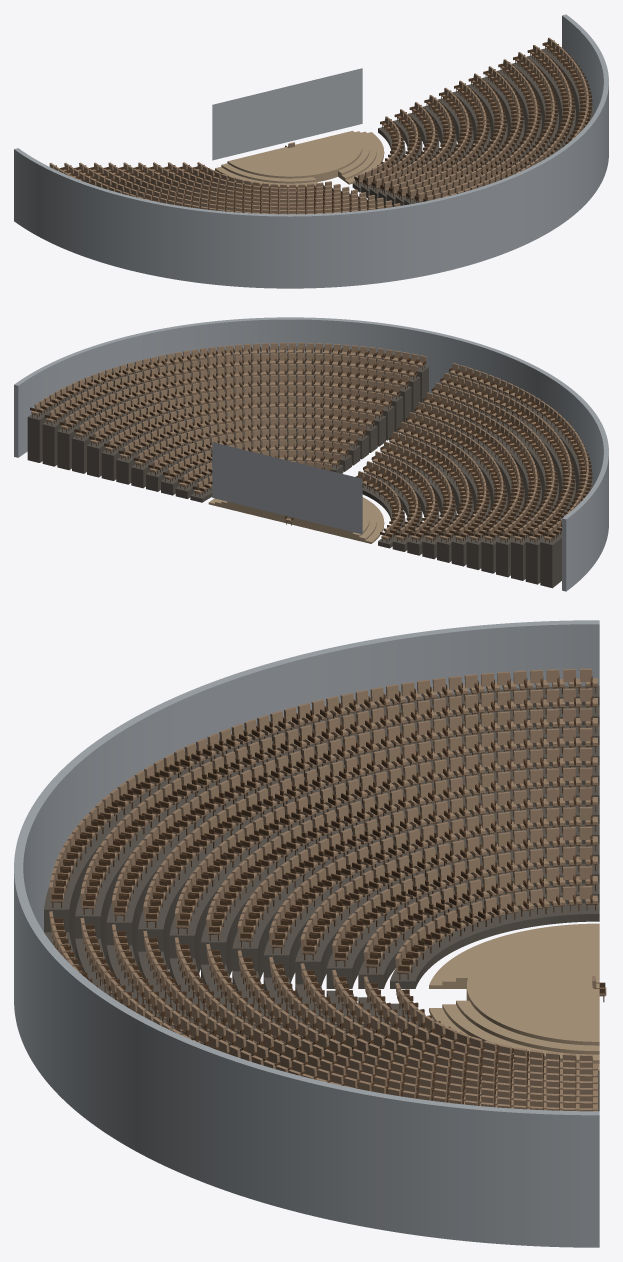
The model's file is auditorium.glb.
3 views of the same model, one above another, from view 1: azimuth 30°, elevation 25°; view 2: azimuth 150°, elevation 25°; view 3: azimuth 270°, elevation 25° (orthographic). The views are drawn at different scales.
Parts seen in each view (by area): view 1: Outer_Back_Wall, Main_Display_Screen, Main_Stage, Section_Right_Row_09, Section_Right_Row_10, Section_Right_Row_08, Section_Right_Row_07, Section_Right_Row_11, Section_Right_Row_06, Section_Left_Row_08, Section_Left_Row_07, Section_Right_Row_05 (+27 smaller); view 2: Outer_Back_Wall, Main_Display_Screen, Section_Right_Row_12, Section_Right_Row_11, Section_Right_Row_10, Section_Right_Row_09, Section_Right_Row_08, Section_Right_Row_07, Section_Left_Row_11, Section_Left_Row_12, Section_Right_Row_06, Section_Left_Row_10 (+38 smaller); view 3: Outer_Back_Wall, Section_Left_Row_12, Main_Stage, Section_Left_Row_11, Section_Left_Row_10, Section_Left_Row_09, Section_Left_Row_08, Section_Left_Row_07, Section_Left_Row_06, Section_Left_Row_05, Section_Left_Row_04, Section_Left_Row_03 (+31 smaller).
Boxes of the visible parts, x1,y1,x2,y2 form: Outer_Back_Wall: (14,14,608,288); Main_Display_Screen: (212,68,362,160); Main_Stage: (227,130,362,181); Section_Right_Row_09: (423,59,540,201); Section_Right_Row_10: (435,52,558,199); Section_Right_Row_08: (414,66,523,202); Section_Right_Row_07: (406,73,506,202); Section_Right_Row_11: (510,45,575,175); Section_Right_Row_06: (397,80,489,199); Section_Left_Row_08: (89,162,392,214); Section_Left_Row_07: (104,162,383,213); Section_Right_Row_05: (389,87,472,197); Outer_Back_Wall: (14,317,608,591); Main_Display_Screen: (212,442,362,534); Section_Right_Row_12: (30,342,426,418); Section_Right_Row_11: (44,353,417,425); Section_Right_Row_10: (59,364,409,432); Section_Right_Row_09: (74,375,400,439); Section_Right_Row_08: (89,385,392,446); Section_Right_Row_07: (104,396,383,453); Section_Left_Row_11: (440,373,575,542); Section_Left_Row_12: (449,363,592,543); Section_Right_Row_06: (118,407,374,460); Section_Left_Row_10: (431,382,558,543); Outer_Back_Wall: (14,620,599,1247); Section_Left_Row_12: (49,668,597,908); Main_Stage: (466,929,599,1045); Section_Left_Row_11: (80,688,597,914); Section_Left_Row_10: (112,708,598,921); Section_Left_Row_09: (143,728,598,927); Section_Left_Row_08: (174,747,598,934); Section_Left_Row_07: (206,767,598,940); Section_Left_Row_06: (237,787,598,947); Section_Left_Row_05: (269,807,598,953); Section_Left_Row_04: (300,826,598,960); Section_Left_Row_03: (332,846,598,966).
Size of the model in its own units: 44.08 by 5.5 by 22.39.
